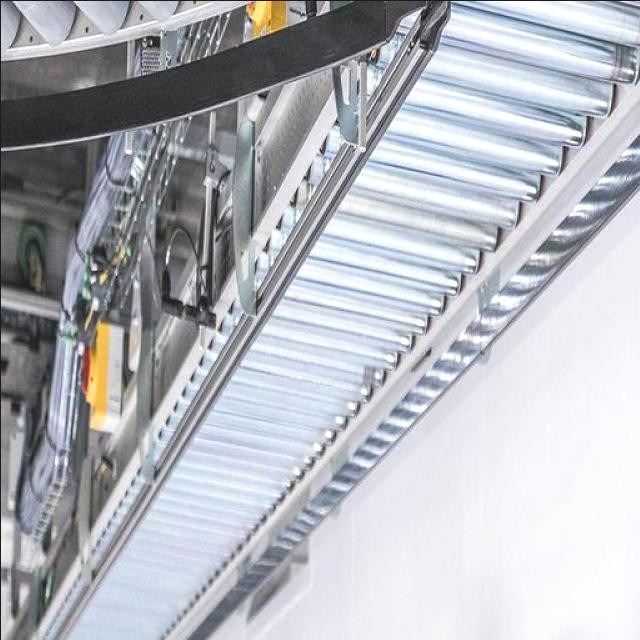conveyor: (53, 0, 640, 640)
